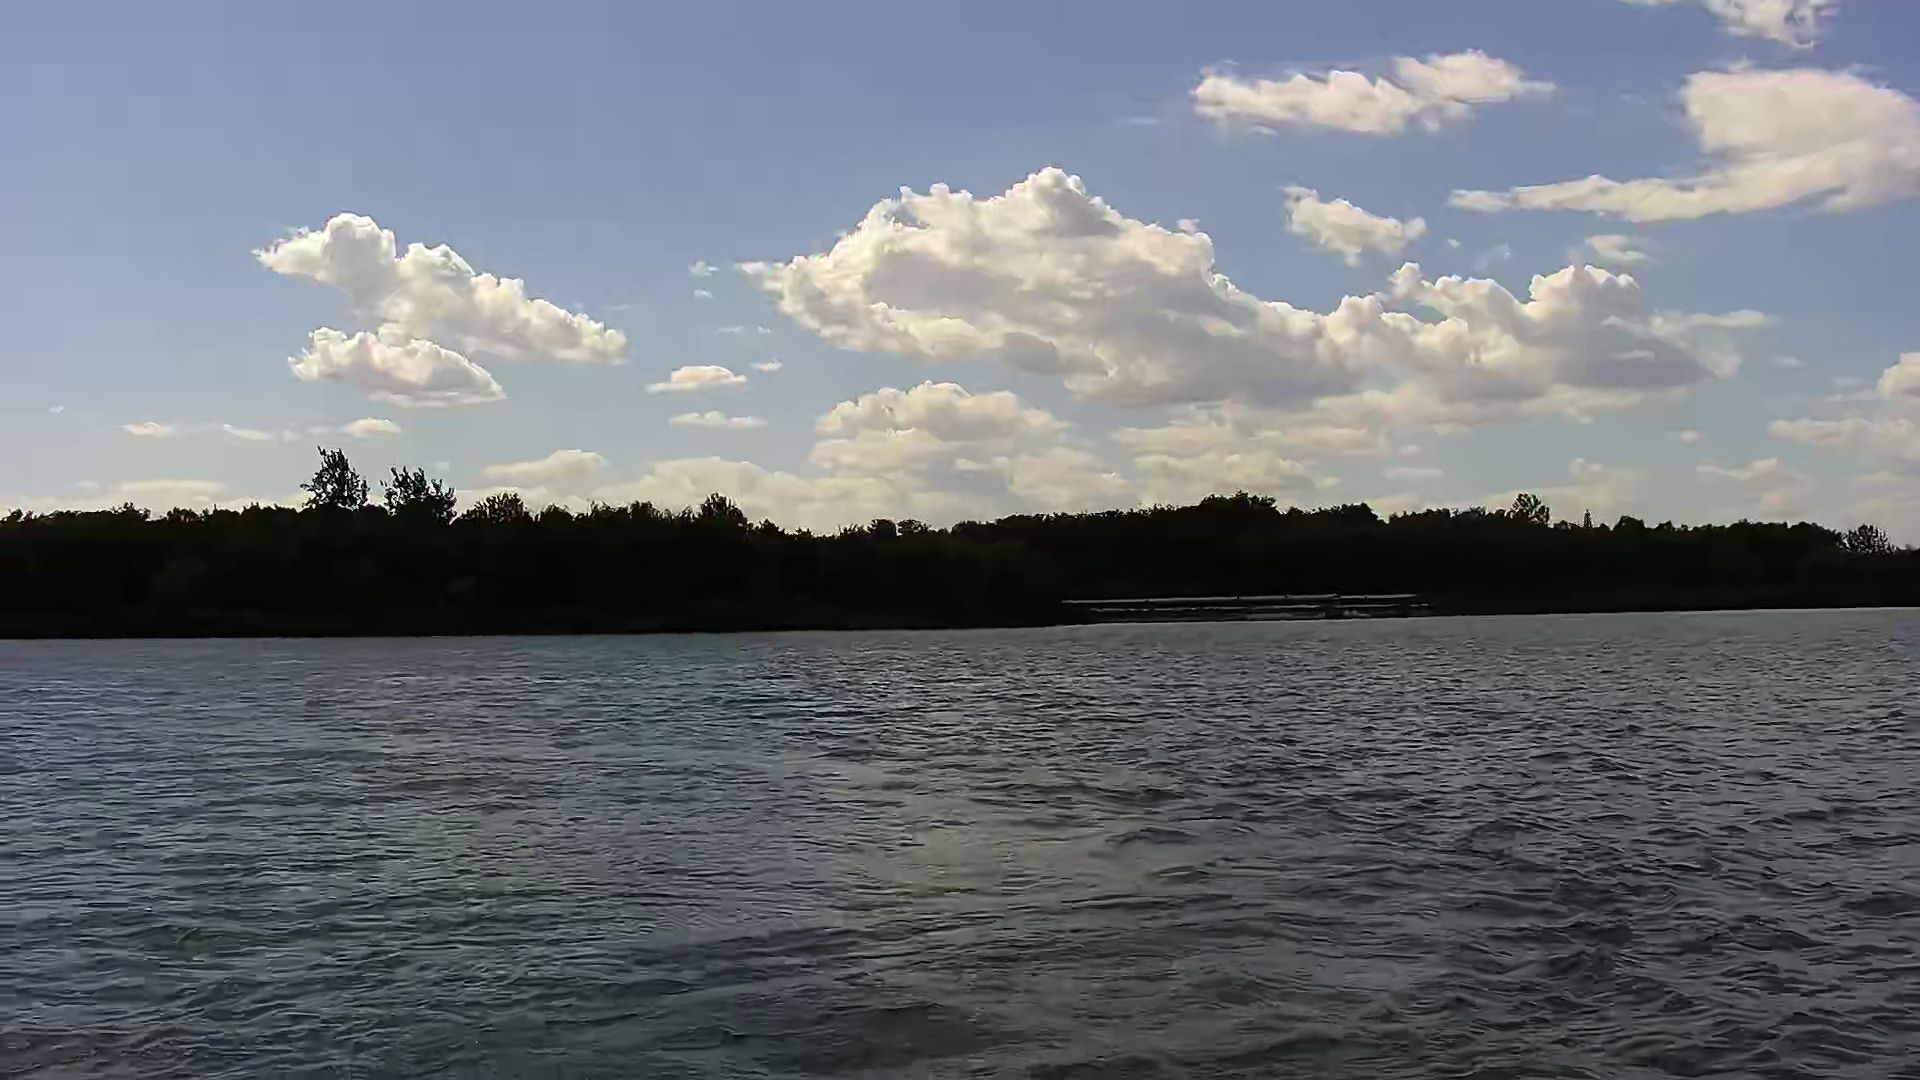harbor: (1058, 593, 1429, 625)
